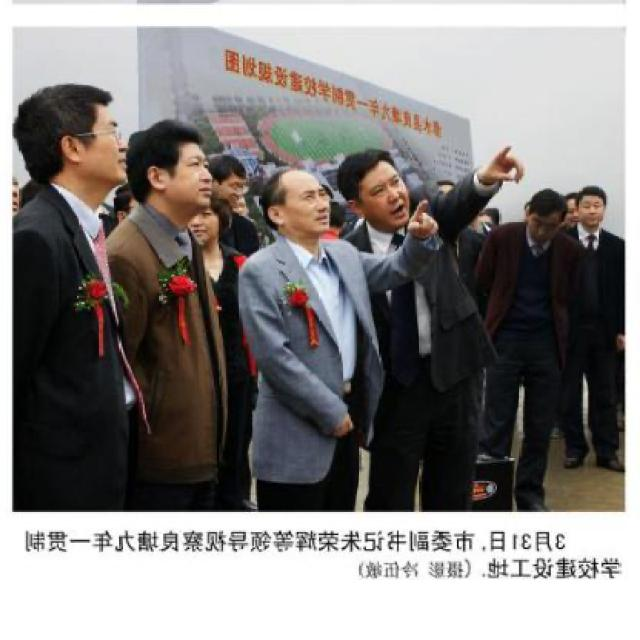sin casco: (0, 49, 151, 265), (117, 107, 257, 243), (517, 161, 628, 257), (350, 145, 440, 232), (254, 164, 334, 253)
